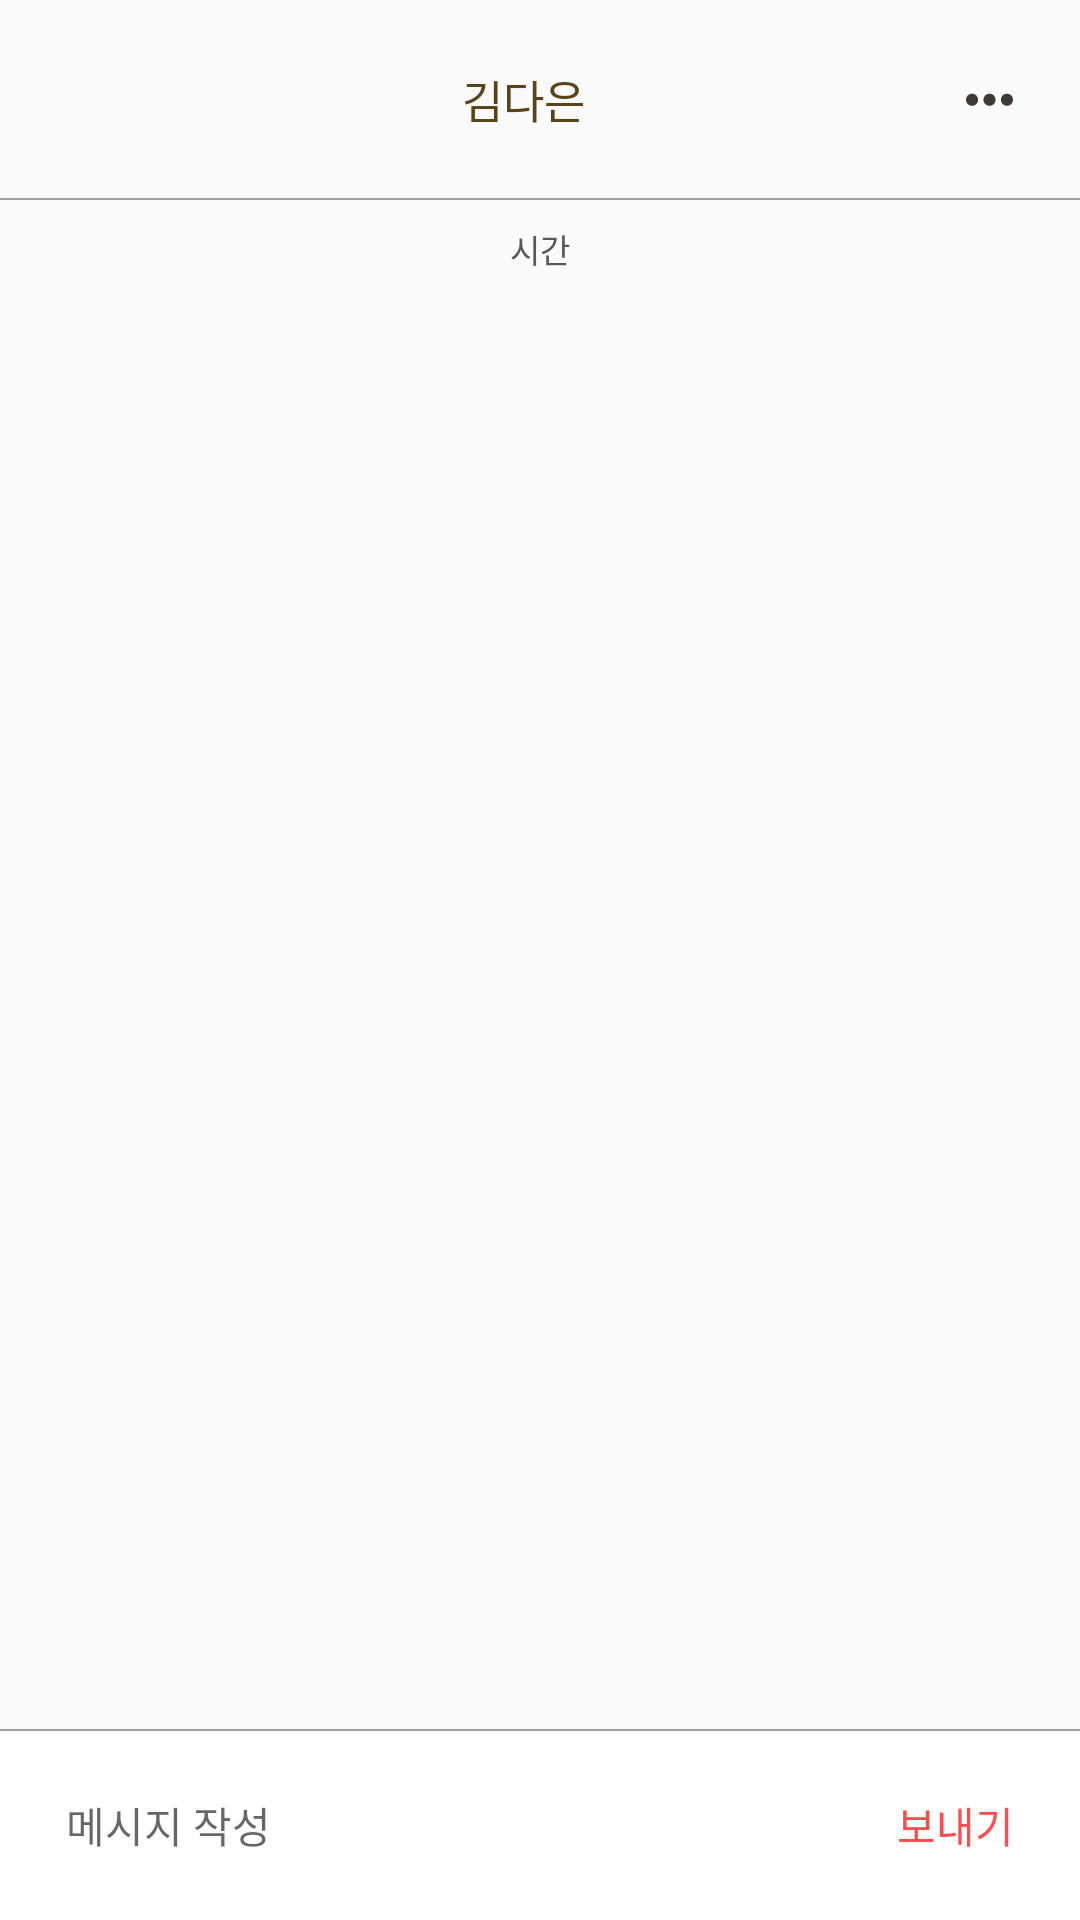

Point at icon controls on the screen. Image size 1080×1920, points as (x,y).
overflow: (989,99)
